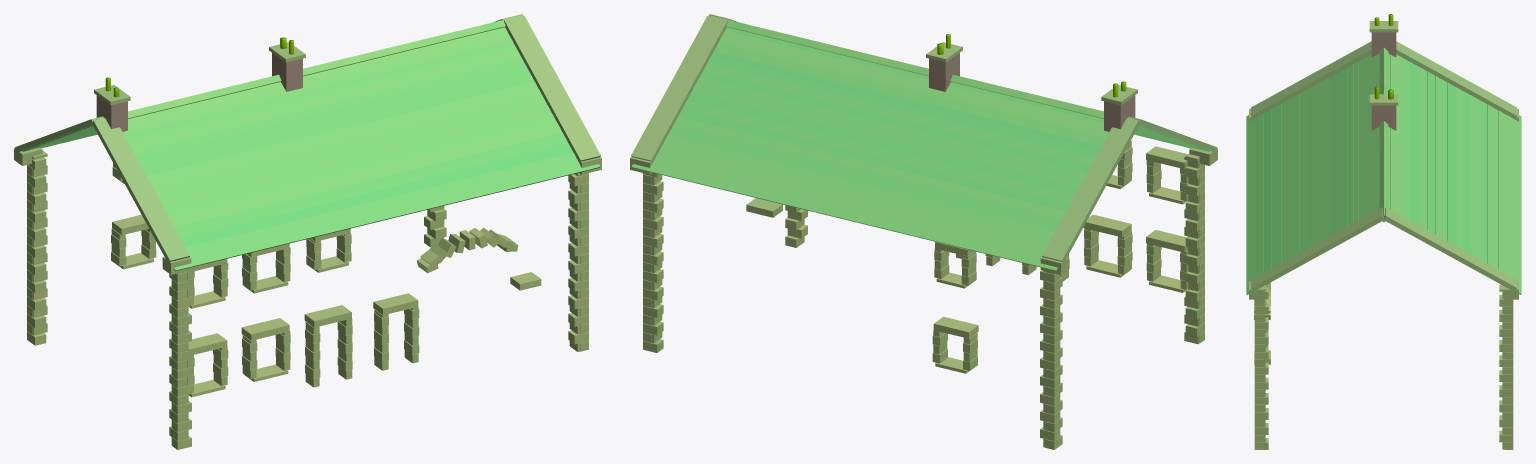
Rendered from SM_Bld_173_Stone.glb.
The picture shows the model from 3 angles, left to right: view 1: azimuth 30°, elevation 25°; view 2: azimuth 150°, elevation 25°; view 3: azimuth 270°, elevation 25°; orthographic projection. The views are drawn at different scales.
Parts seen in each view (by area): view 1: SM_Bld_173_Stone; view 2: SM_Bld_173_Stone; view 3: SM_Bld_173_Stone.
Part boxes in pixels (x1,y1,x2,y2): SM_Bld_173_Stone: (14,14,601,449); SM_Bld_173_Stone: (630,14,1217,449); SM_Bld_173_Stone: (1246,14,1521,449).
Size of the model in its own units: 15.41 by 10.65 by 9.92.
